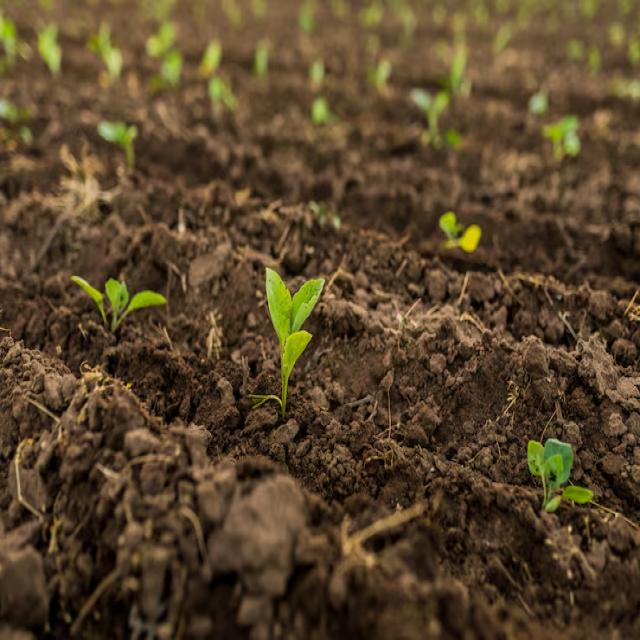suelo_humedo: (102, 135, 597, 600)
